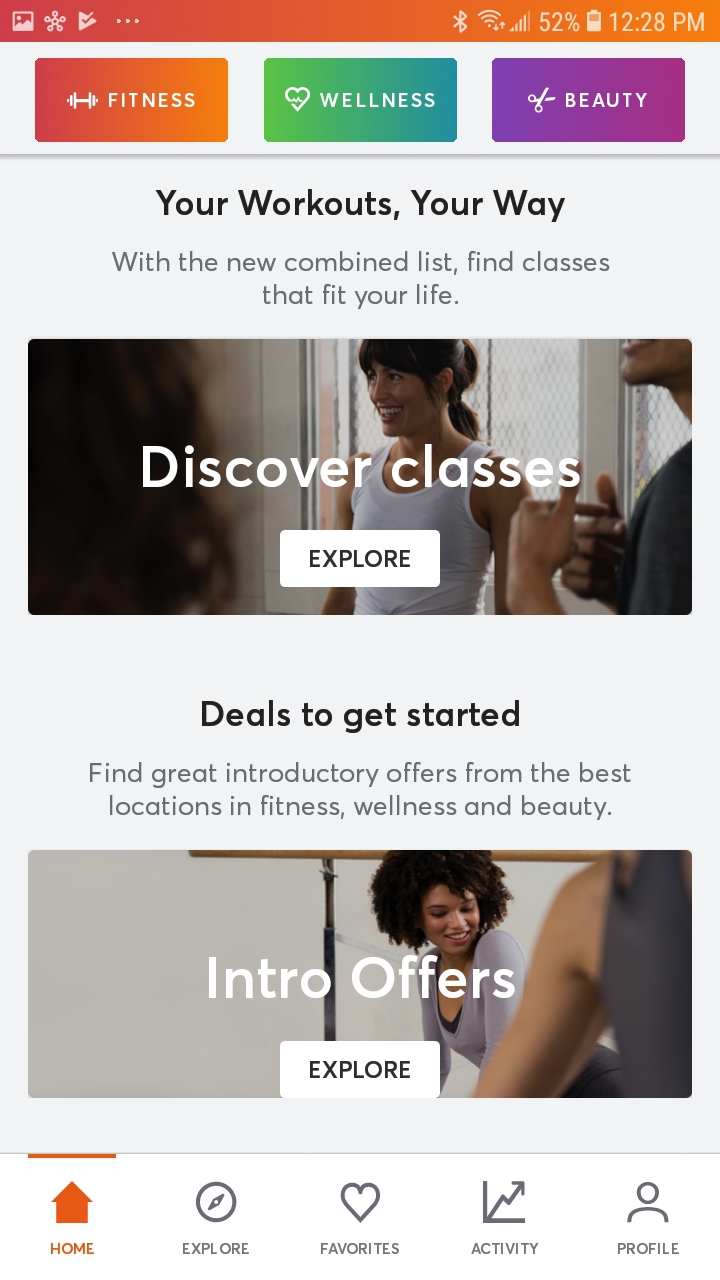Icon: (483, 1181, 526, 1224), (52, 1181, 94, 1223), (196, 1181, 238, 1222), (627, 1182, 669, 1223), (341, 1182, 381, 1223)
Image: (28, 339, 692, 616), (29, 850, 693, 1099)
Text: (90, 761, 631, 821), (112, 251, 610, 310), (143, 444, 581, 489), (156, 190, 566, 223), (209, 955, 516, 999), (202, 700, 520, 734), (321, 1242, 400, 1254), (472, 1242, 539, 1254), (183, 1243, 250, 1255), (618, 1243, 679, 1255), (51, 1243, 96, 1255)
TextButton: (492, 58, 686, 143), (264, 58, 458, 143), (35, 59, 229, 144), (280, 530, 441, 588), (280, 1041, 441, 1098)
UpperTaskBar: (1, 1, 720, 43)
